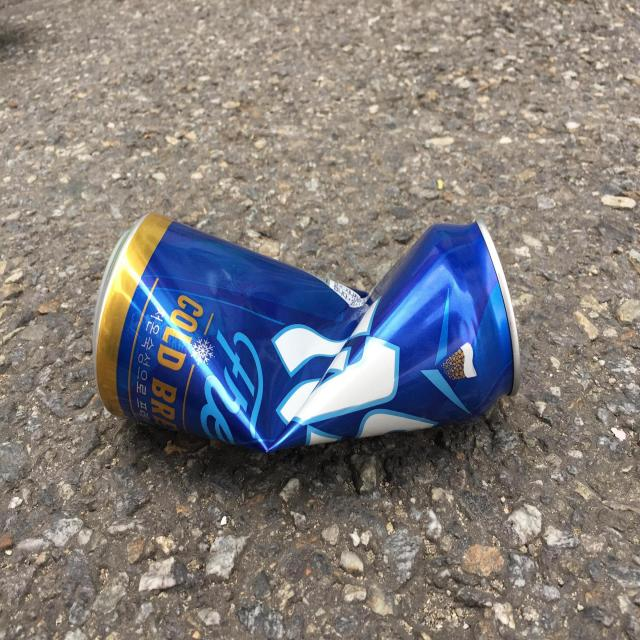can: (92, 213, 521, 452)
